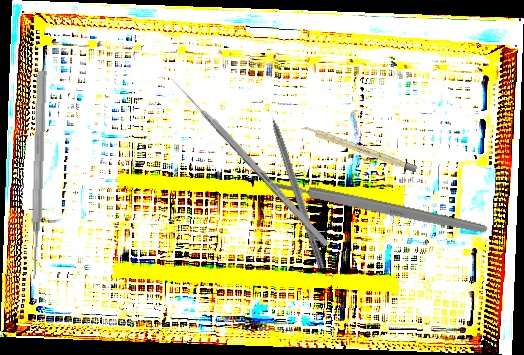Hook Surgical: (262, 95, 328, 271)
Pusher: (168, 74, 330, 248), (27, 70, 49, 280)
Scalpel Handle: (269, 177, 489, 236), (300, 124, 418, 173)
